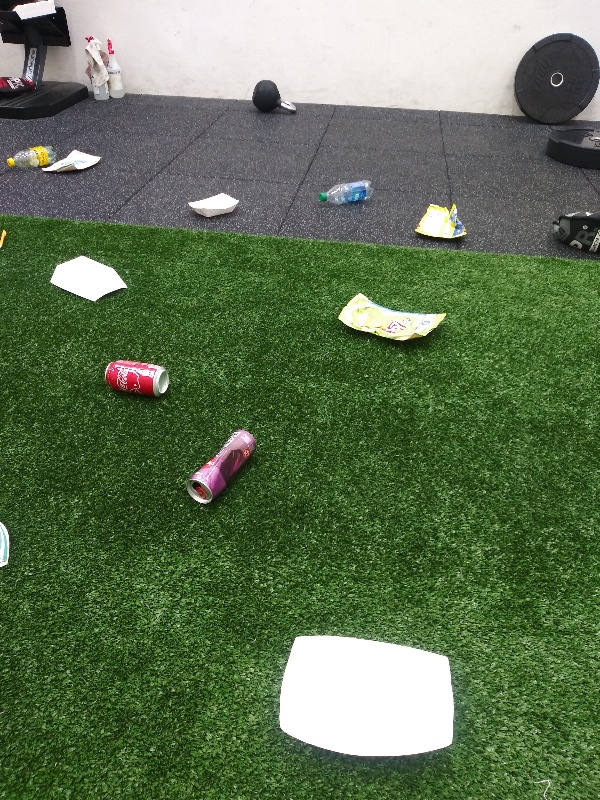bag: (332, 290, 448, 346), (410, 201, 472, 243), (37, 146, 106, 176)
bottle: (314, 176, 378, 209), (1, 142, 62, 173)
can: (186, 425, 261, 506), (103, 356, 174, 401)
plate: (277, 630, 457, 760), (48, 254, 127, 306), (185, 190, 242, 221), (1, 516, 14, 574)
